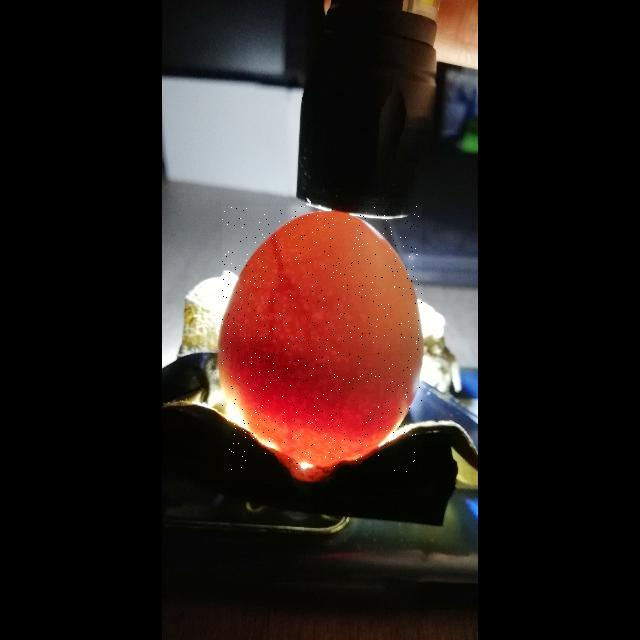Fertile: (222, 206, 422, 472)
